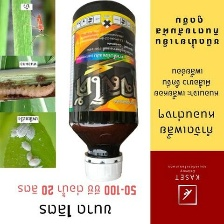insecticide: (64, 0, 142, 183)
